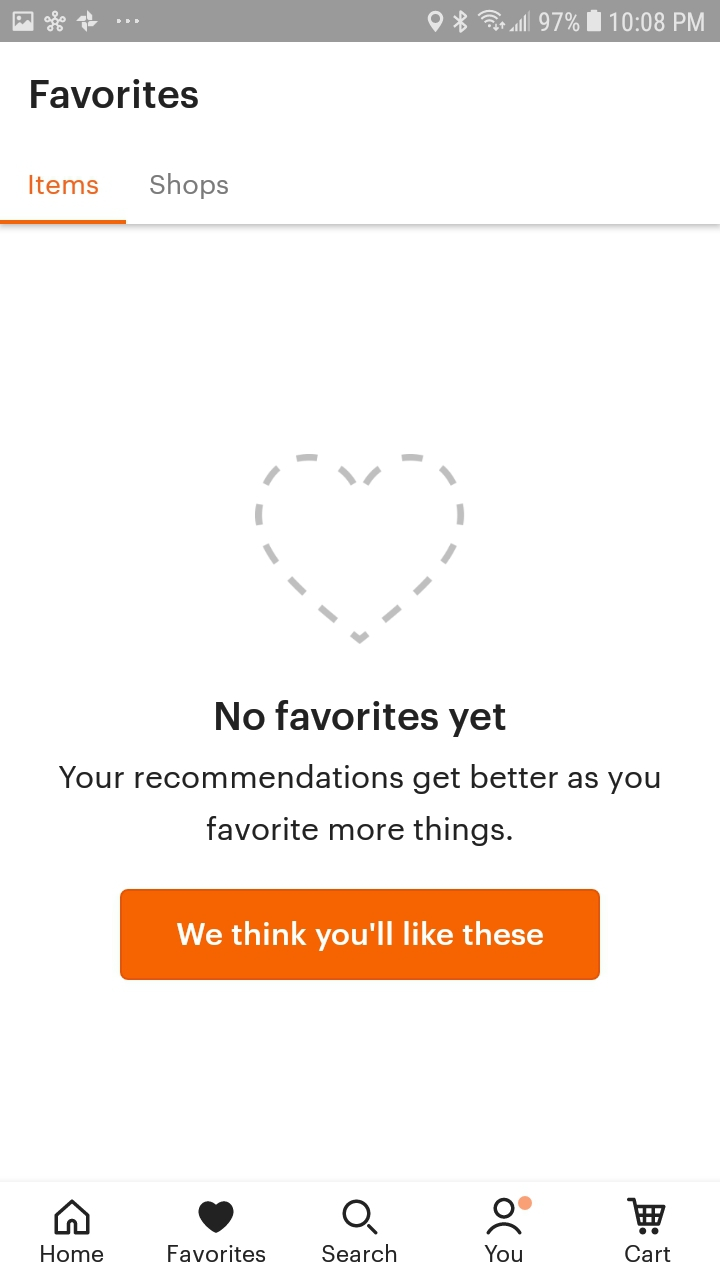Icon: (486, 1196, 533, 1235), (627, 1197, 666, 1235), (342, 1199, 379, 1235), (55, 1199, 91, 1235), (198, 1200, 235, 1234)
Image: (256, 454, 466, 645)
Text: (59, 764, 661, 847), (216, 699, 506, 738), (31, 80, 199, 110), (151, 173, 230, 200), (168, 1244, 267, 1263), (322, 1243, 398, 1263), (29, 175, 99, 195), (42, 1245, 105, 1263), (624, 1244, 671, 1263), (485, 1245, 523, 1263)
TextButton: (121, 889, 601, 981)
UpperTaskBar: (1, 1, 720, 43)
